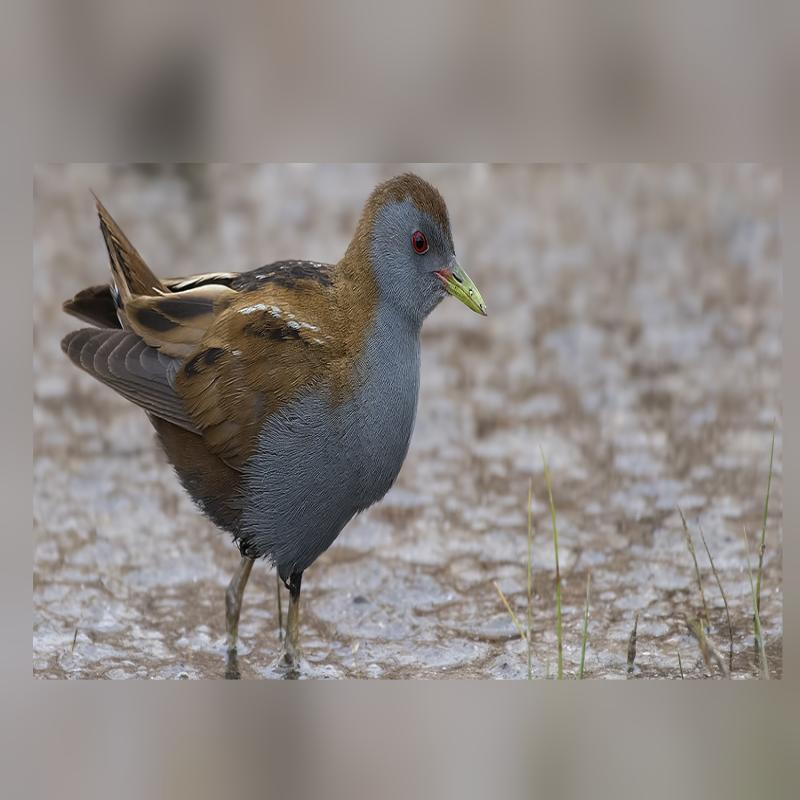little crake: (60, 165, 490, 590)
